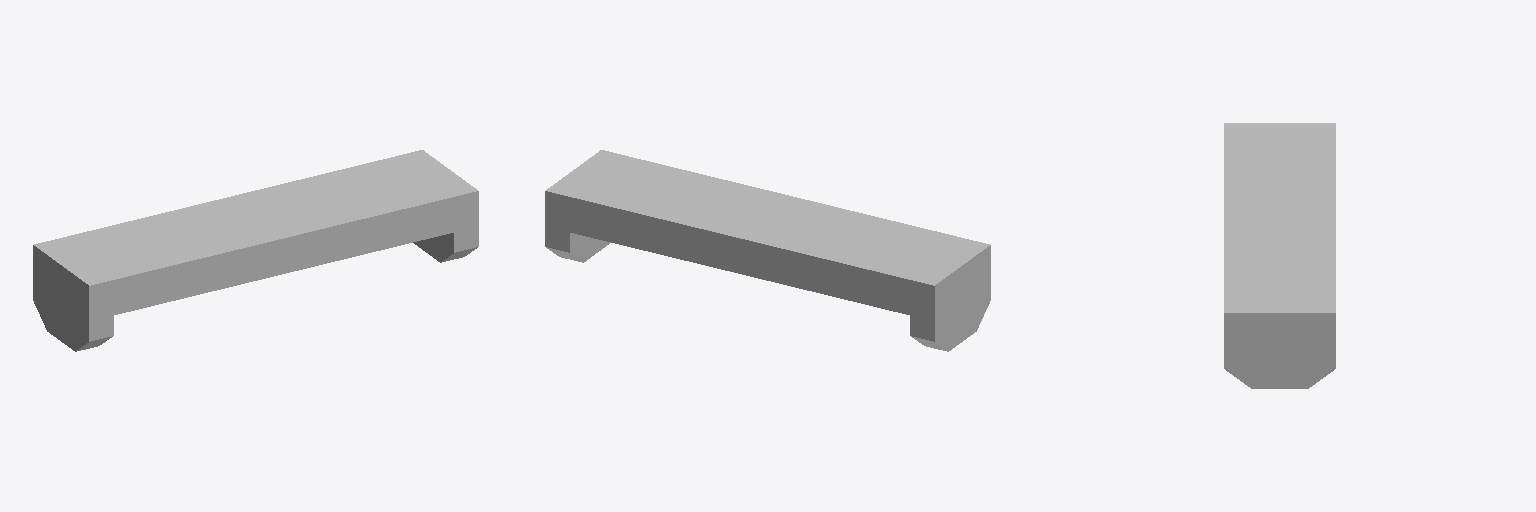
Rendered from Props_Light_Geo.obj.
The picture shows the model from 3 angles: view 1: azimuth 30°, elevation 25°; view 2: azimuth 150°, elevation 25°; view 3: azimuth 270°, elevation 25°; orthographic projection.
Visible parts, largest first — view 1: PropZoo:pCube80; view 2: PropZoo:pCube80; view 3: PropZoo:pCube80.
Boxes of the visible parts, box(x1,y1,x2,y2) form: PropZoo:pCube80: box(33, 150, 478, 351); PropZoo:pCube80: box(545, 150, 990, 351); PropZoo:pCube80: box(1224, 123, 1335, 388).
Bounding box in the file's own units: 1 × 0.1875 × 0.25.